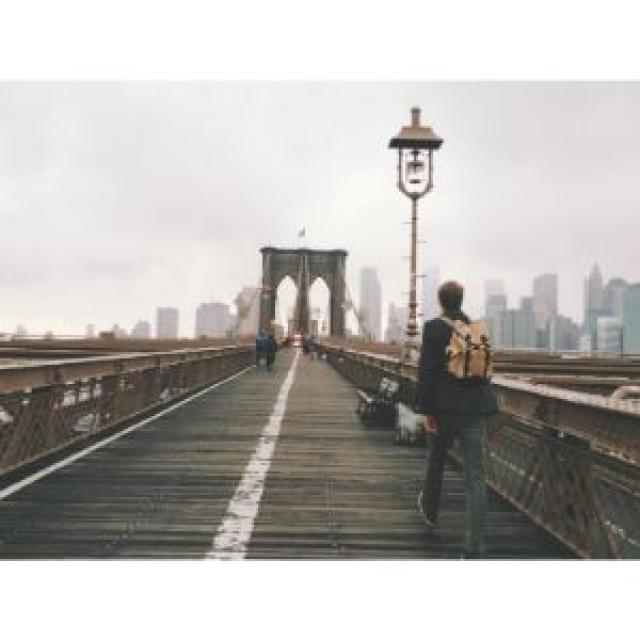nonfall: (388, 289, 516, 545)
